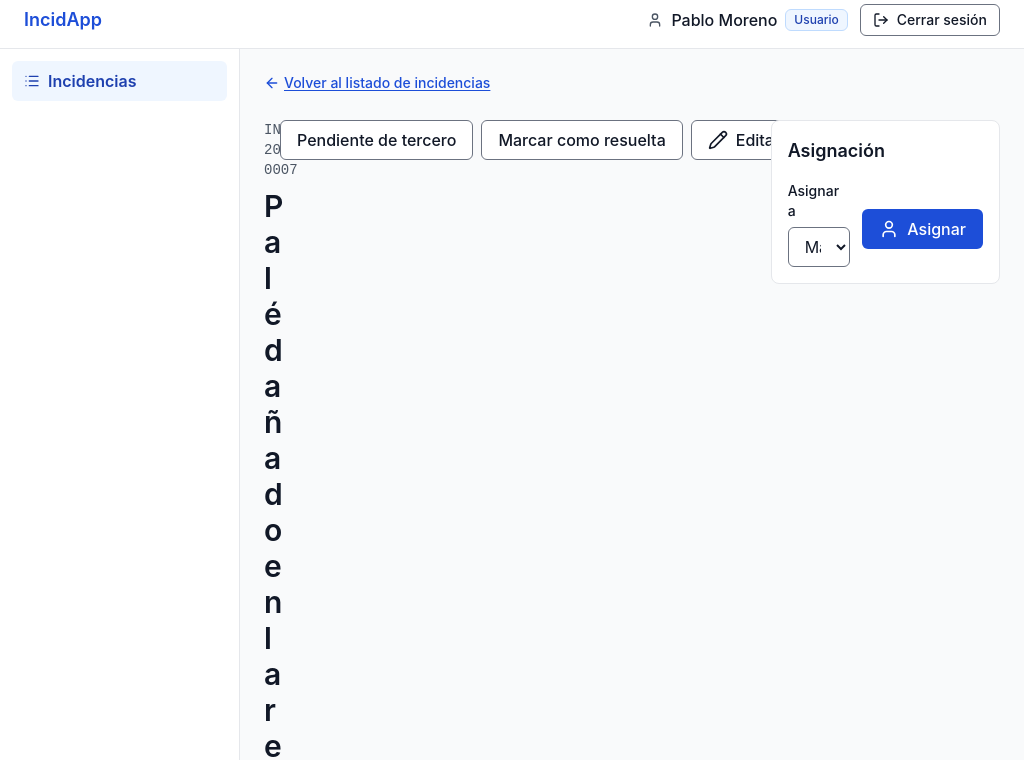
CA-04.8 · acciones de estado en el detalle › envía el comentario y el historial lo muestra
Click the button "Marcar como resuelta".
click(582, 140)  # box x1=481 y1=120 x2=683 y2=160
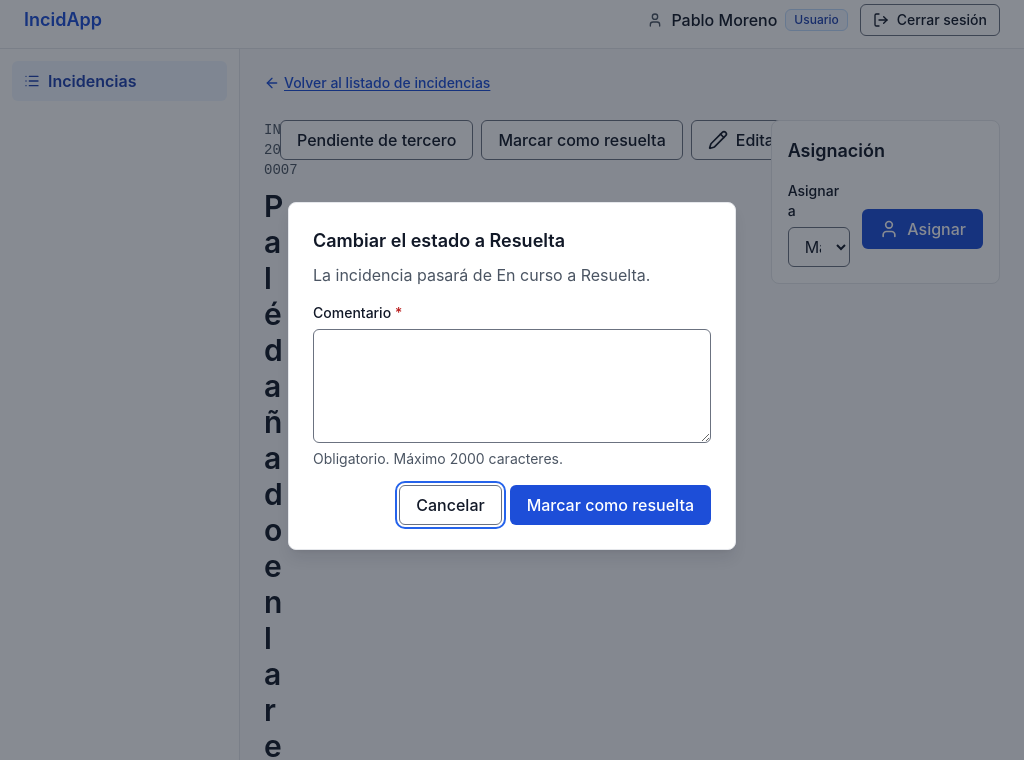
Type "  Palé repuesto por el proveedor.  " into the text box labelled "Comentario*".
click(512, 386); type("  Palé repuesto por el proveedor.  ")  # box x1=313 y1=329 x2=711 y2=443
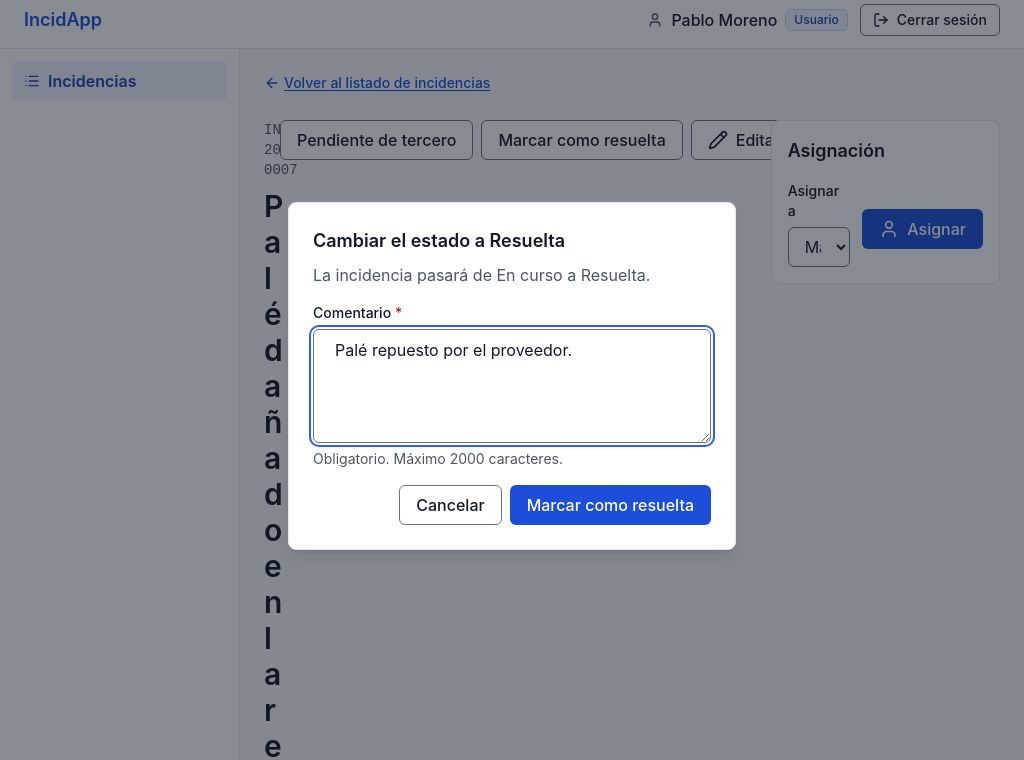
Click the button "Marcar como resuelta".
click(610, 505)  # box x1=510 y1=485 x2=711 y2=525
(page scrolled)
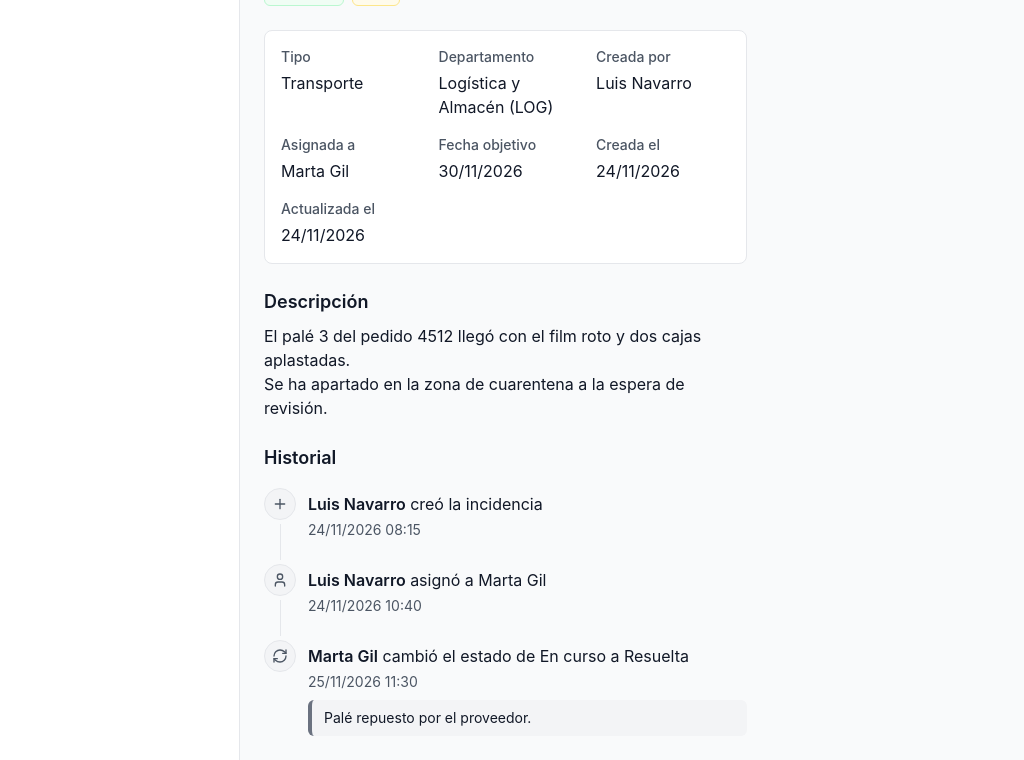
Expected: the dialog is gone
Expected: the text "Palé repuesto por el proveedor." is shown, x1=308 y1=700 x2=747 y2=736
Expected: the heading "Cambiar el estado" is gone
